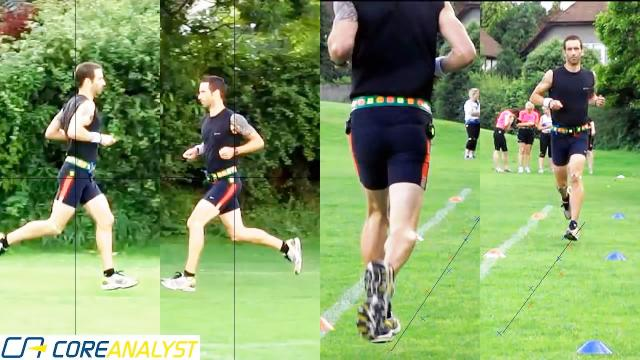berlari: (0, 59, 142, 298), (155, 74, 309, 288), (524, 32, 608, 238)
